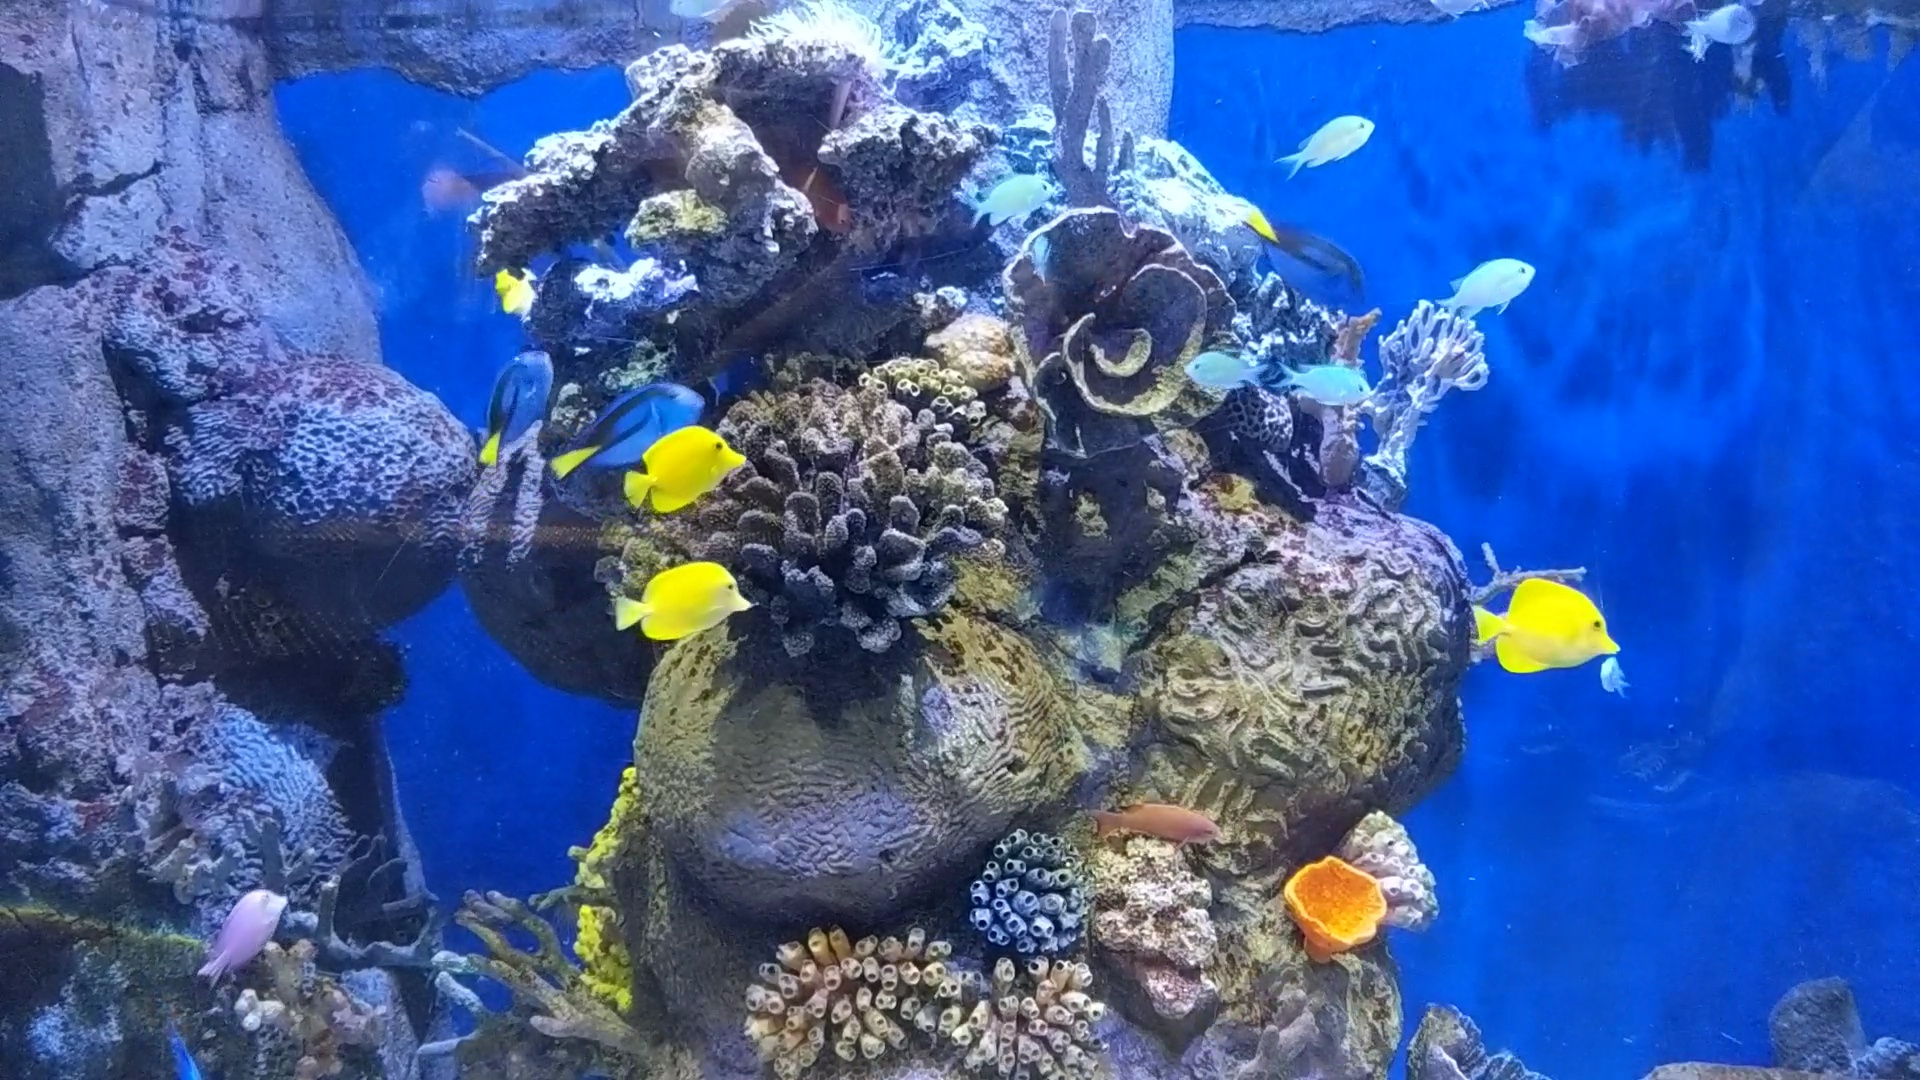blue tang surgeonfish: (1228, 191, 1375, 319), (545, 378, 707, 485), (473, 345, 559, 475), (152, 1022, 216, 1079)
damselfish: (1274, 105, 1382, 175), (1437, 255, 1535, 328), (967, 170, 1058, 233), (1275, 361, 1374, 410), (1182, 348, 1270, 397), (1677, 4, 1759, 53), (1592, 649, 1636, 699), (1025, 235, 1064, 285), (663, 0, 770, 15)
saddle butterfly fish: (1464, 568, 1623, 673), (616, 555, 767, 649), (621, 425, 752, 512), (481, 251, 564, 332)
